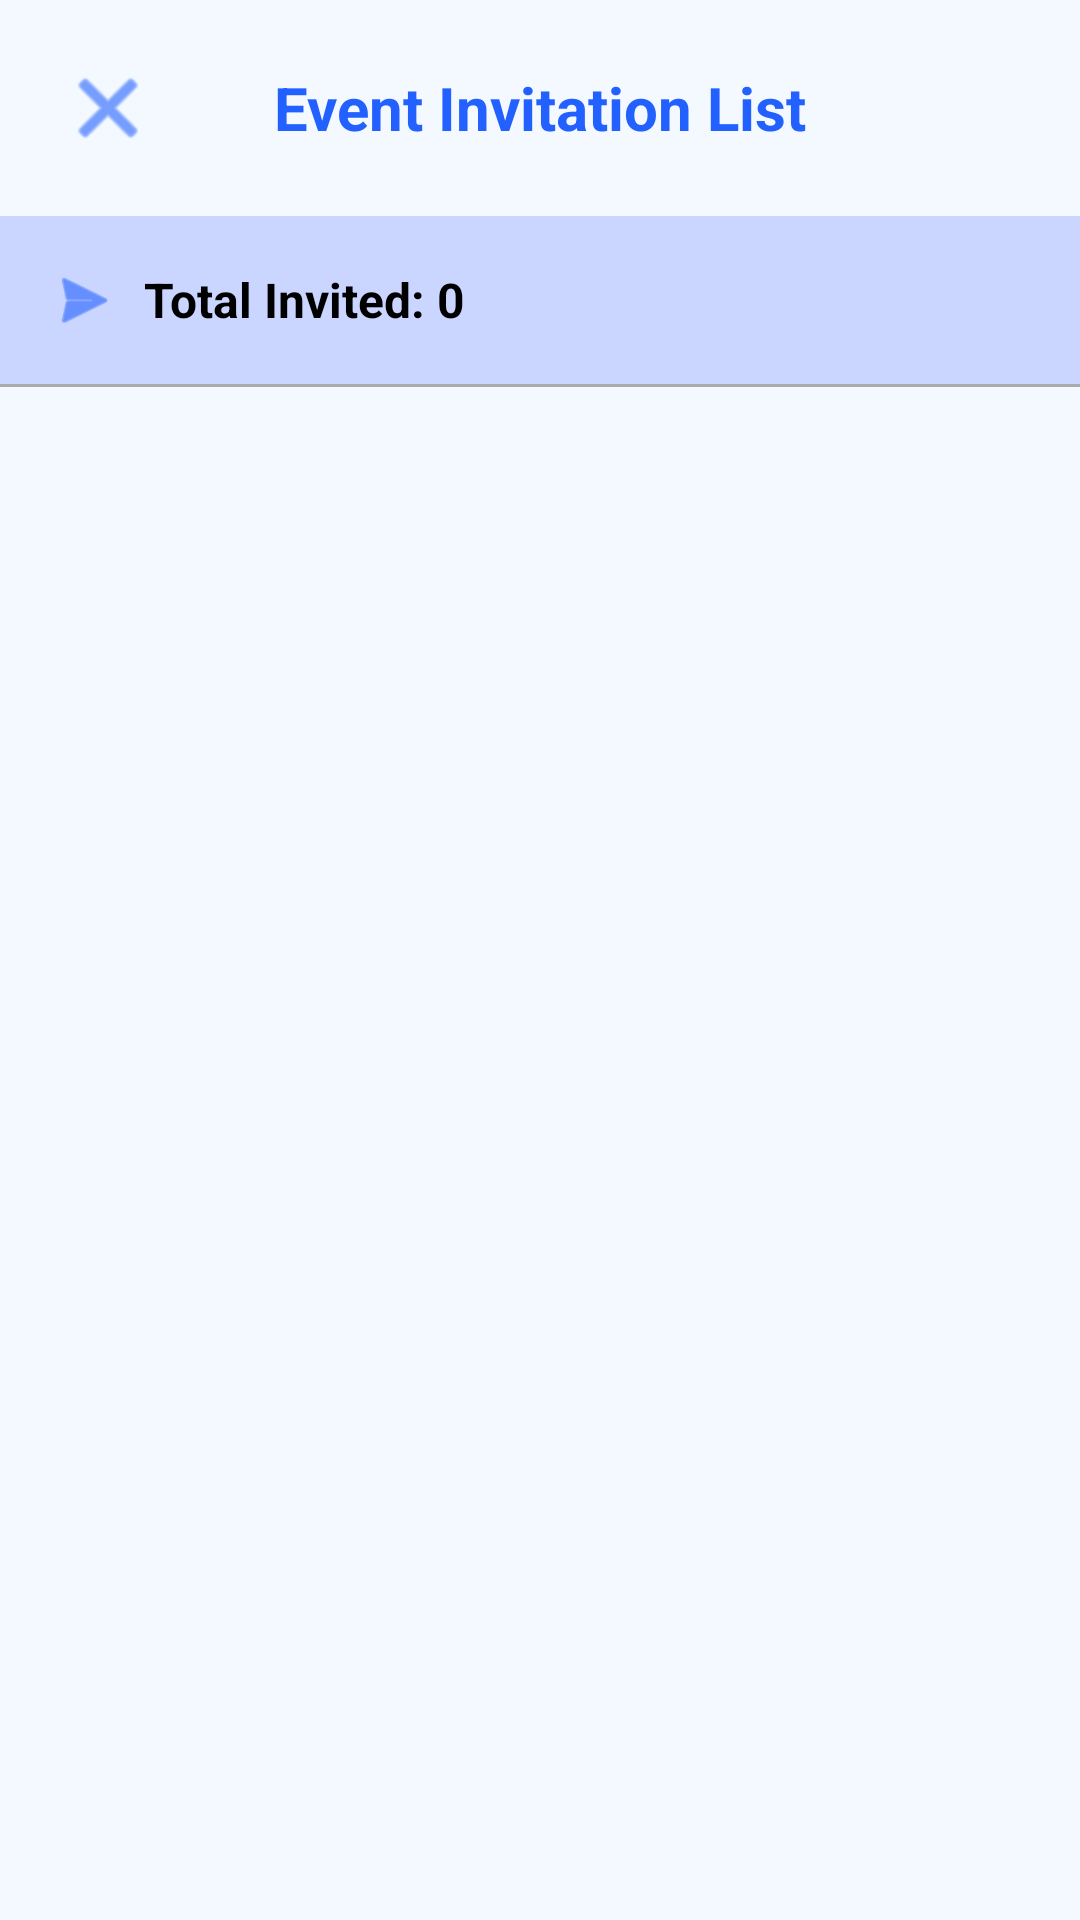

Where to tap for icons on this 1080w x 1920h app screen, as point (x, y):
send: point (85, 300)
